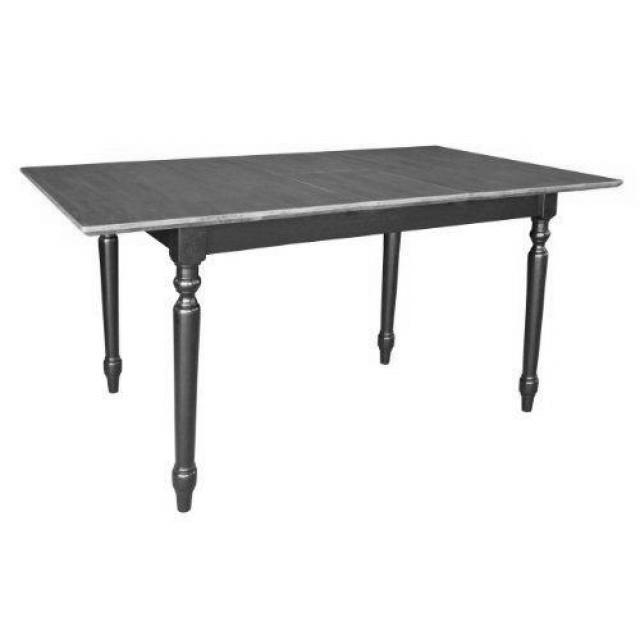table: (22, 147, 620, 507)
